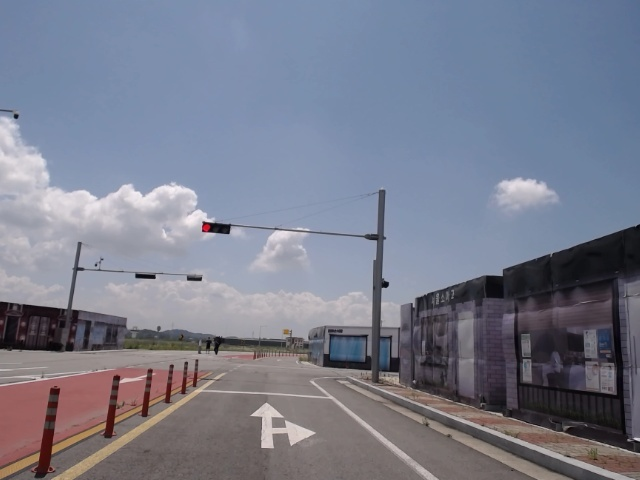red_3: (202, 221, 231, 235)
